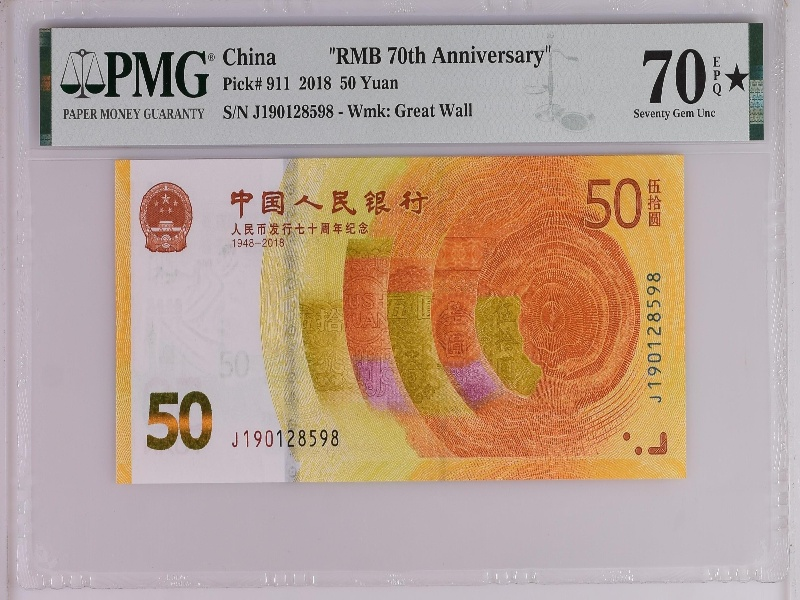papernote: (114, 158, 688, 485)
